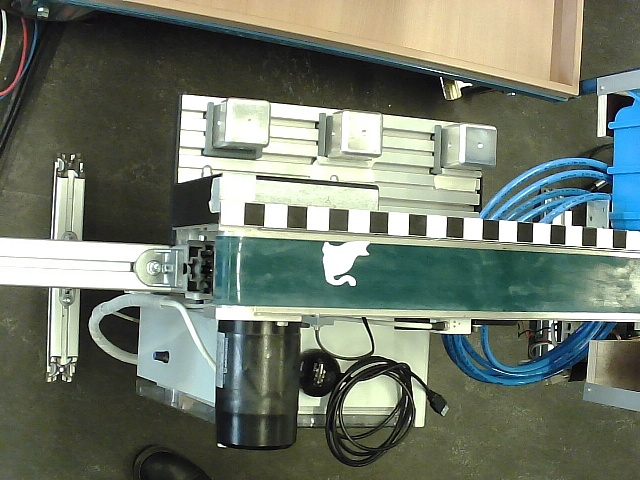cat: (322, 239, 371, 287)
